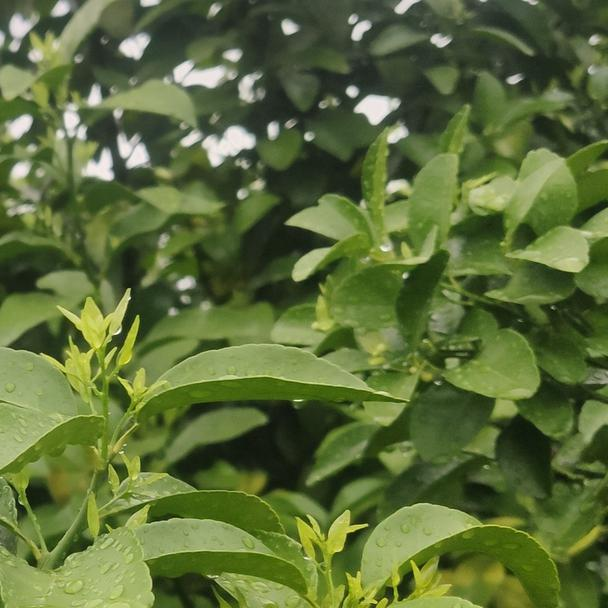shoot: (63, 293, 148, 401), (302, 512, 355, 586)
